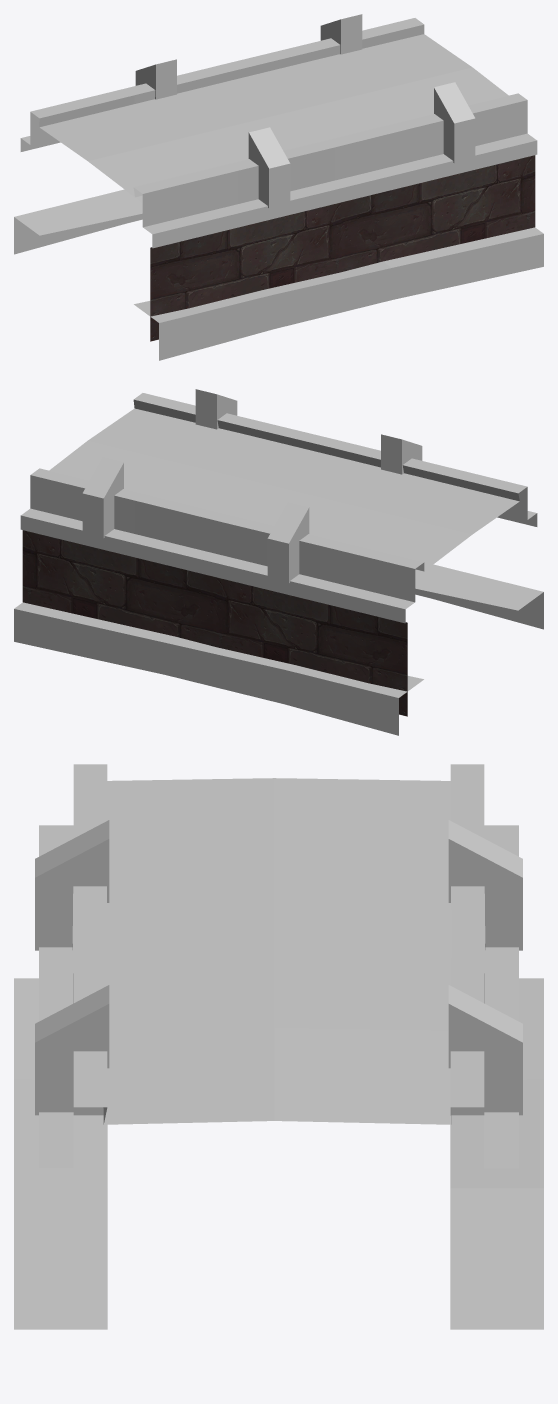
File: 10504_NRoad01.FBX
The picture shows the model from 3 angles, top to bottom: view 1: azimuth 30°, elevation 25°; view 2: azimuth 150°, elevation 25°; view 3: azimuth 270°, elevation 25°; orthographic projection. The views are drawn at different scales.
Visible parts, largest first — view 1: m_sj006_3_006, Object906; view 2: m_sj006_3_006, Object906; view 3: m_sj006_3_006.
Boxes of the visible parts, box(x1,y1,x2,y2) form: m_sj006_3_006: box(14, 14, 543, 360); Object906: box(150, 155, 535, 341); m_sj006_3_006: box(14, 389, 543, 735); Object906: box(22, 530, 407, 716); m_sj006_3_006: box(14, 764, 543, 1329).
Size of the model in its own units: 1000 by 450 by 653.
